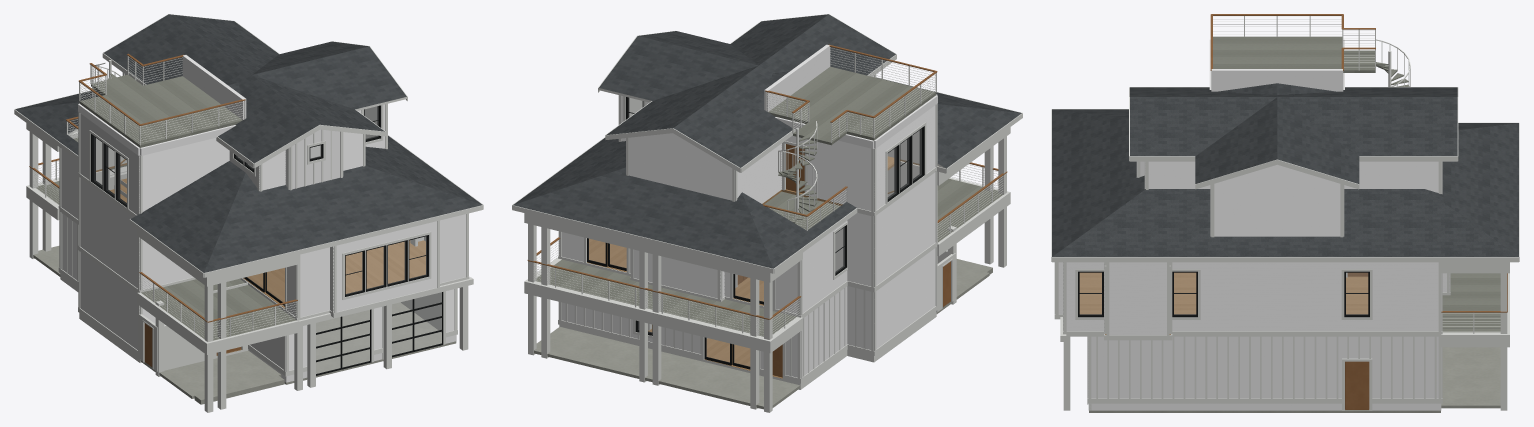
The model's file is exterior-home.glb.
3 views of the same model, side by side, from view 1: azimuth 30°, elevation 25°; view 2: azimuth 150°, elevation 25°; view 3: azimuth 270°, elevation 25° (orthographic). The views are drawn at different scales.
Size of the model in its own units: 13.08 by 10.72 by 17.44.
15 materials, 12 textured.
